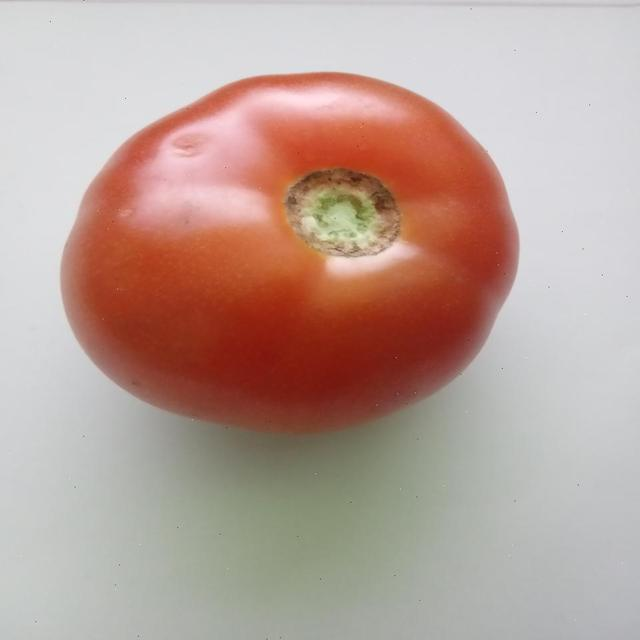Healthy Fruit: (37, 47, 348, 290)
